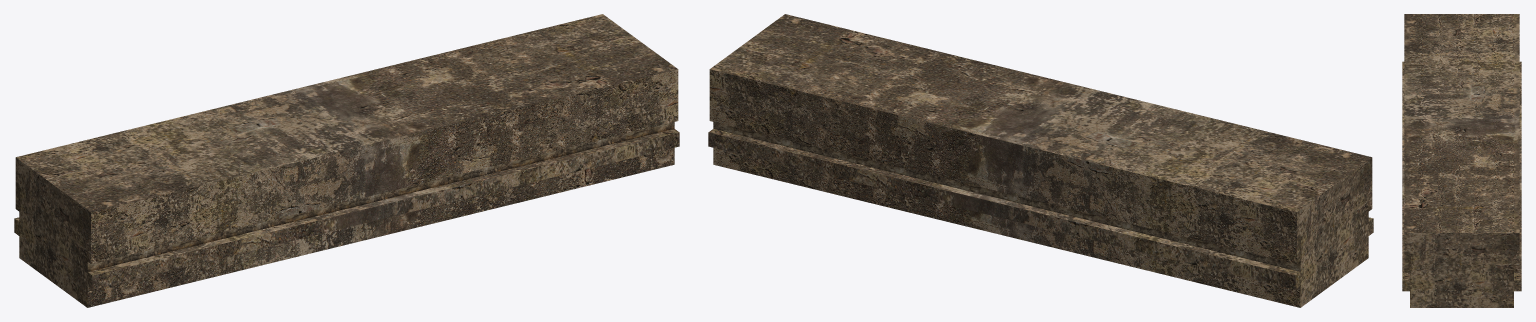
File: materials_5_stonestick_short_4.fbx
3 views of the same model, side by side, from view 1: azimuth 30°, elevation 25°; view 2: azimuth 150°, elevation 25°; view 3: azimuth 270°, elevation 25° (orthographic). The views are drawn at different scales.
Visible parts, largest first — view 1: materials_5_stonestick_short_4; view 2: materials_5_stonestick_short_4; view 3: materials_5_stonestick_short_4.
Part boxes in pixels (x1=…): materials_5_stonestick_short_4: x1=14, y1=14, x2=679, y2=307; materials_5_stonestick_short_4: x1=708, y1=14, x2=1373, y2=307; materials_5_stonestick_short_4: x1=1402, y1=14, x2=1521, y2=307.
Bounding box in the file's own units: 105 × 16.8 × 24.21.
